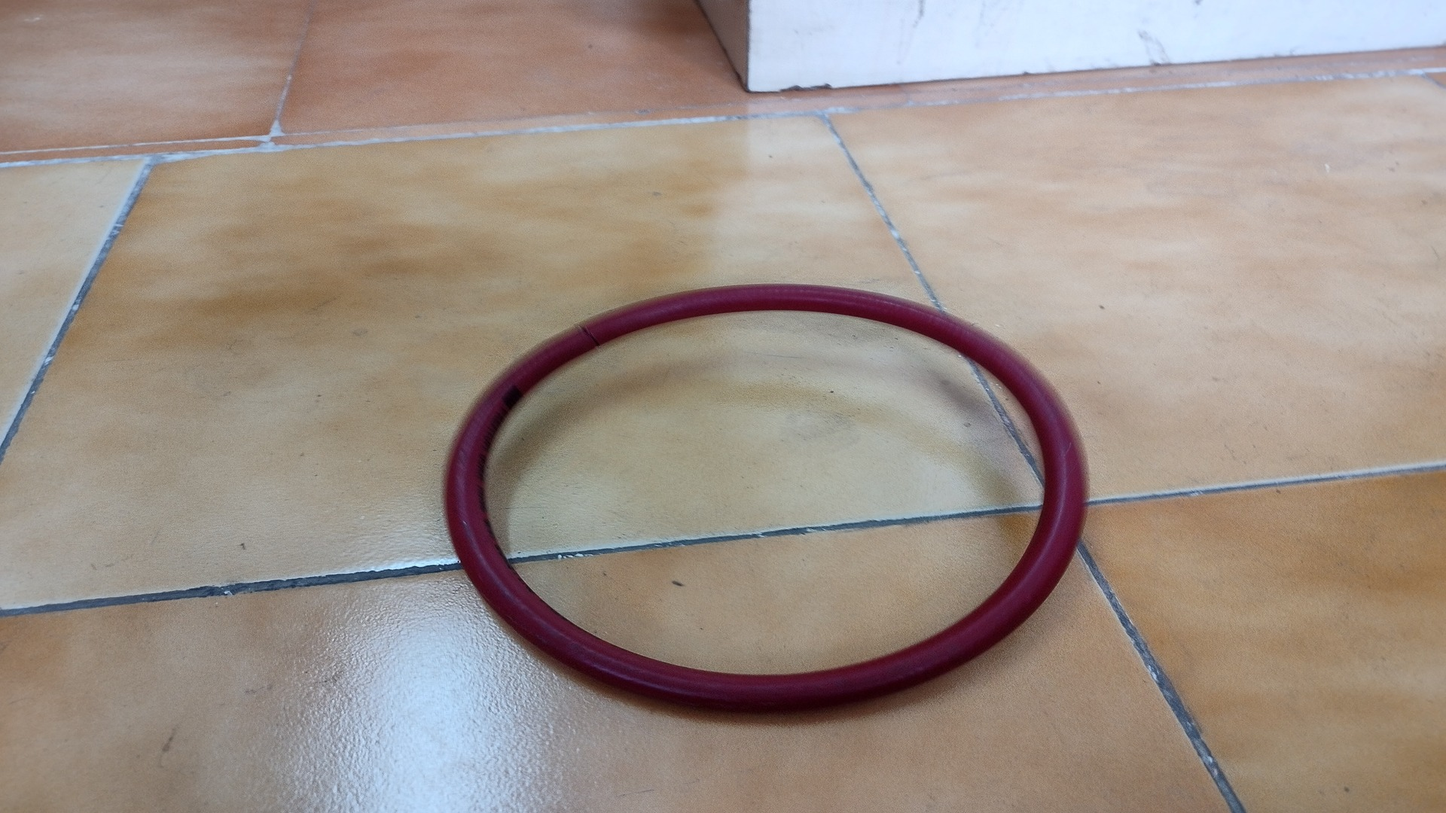Red ring: (444, 285, 1094, 705)
